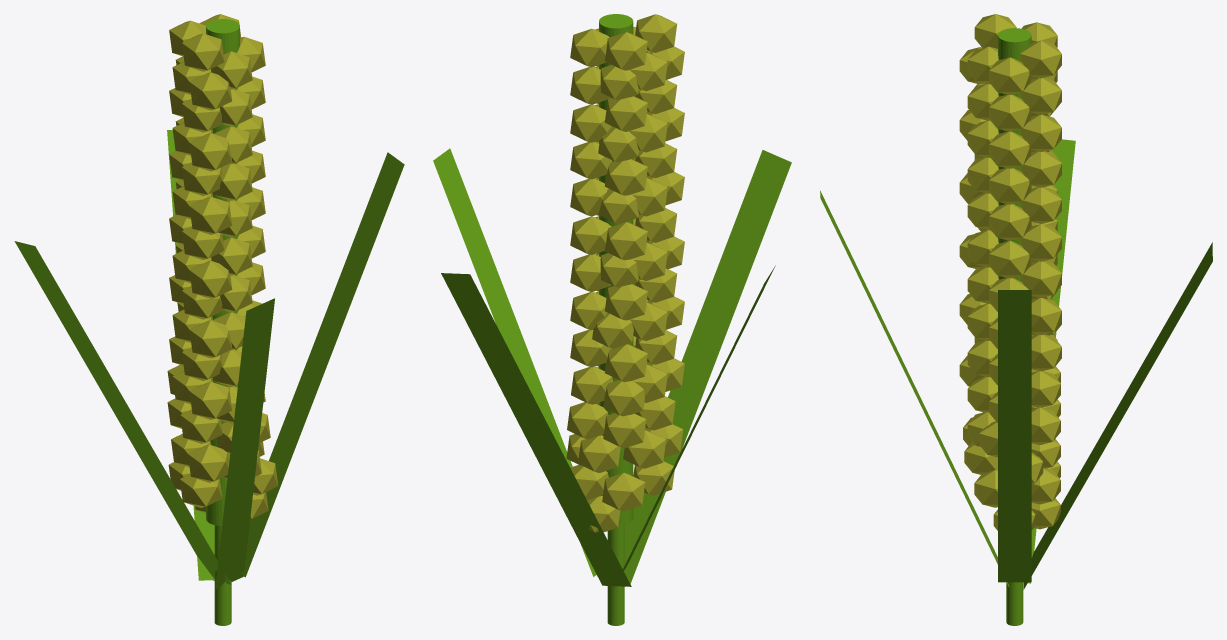
Rendered from Wheat.obj.
3 views of the same model, side by side, from view 1: azimuth 30°, elevation 25°; view 2: azimuth 150°, elevation 25°; view 3: azimuth 270°, elevation 25° (orthographic). The views are drawn at different scales.
Parts seen in each view (by area): view 1: Plane_Plane.004, Plane.002_Plane.006, Plane.001_Plane.005, Cylinder.001, Icosphere.039_Icosphere.040, Icosphere.019_Icosphere.020, Icosphere.032_Icosphere.033, Icosphere.035_Icosphere.036, Icosphere.024_Icosphere.025, Icosphere.007_Icosphere.008, Icosphere.027_Icosphere.028, Icosphere.040_Icosphere.041 (+29 smaller); view 2: Plane.002_Plane.006, Plane.003_Plane.007, Plane_Plane.004, Cylinder.001, Icosphere.003_Icosphere.004, Icosphere.041_Icosphere.042, Icosphere.026_Icosphere.027, Icosphere.018_Icosphere.019, Icosphere.025_Icosphere.026, Icosphere.033_Icosphere.034, Cylinder, Icosphere.045_Icosphere.046 (+44 smaller); view 3: Plane_Plane.004, Plane.003_Plane.007, Plane.001_Plane.005, Plane.002_Plane.006, Cylinder.001, Icosphere.073_Icosphere.074, Icosphere.061_Icosphere.062, Icosphere.077_Icosphere.078, Icosphere.074_Icosphere.075, Icosphere.065_Icosphere.066, Icosphere.068_Icosphere.069, Icosphere.078_Icosphere.079 (+27 smaller).
Part boxes in pixels (box(x1,y1,x2,y2)): Plane_Plane.004: box(241, 152, 404, 577); Plane.002_Plane.006: box(215, 298, 274, 589); Plane.001_Plane.005: box(14, 241, 231, 584); Cylinder.001: box(206, 19, 239, 525); Icosphere.039_Icosphere.040: box(182, 33, 224, 71); Icosphere.019_Icosphere.020: box(189, 381, 232, 419); Icosphere.032_Icosphere.033: box(189, 196, 232, 234); Icosphere.035_Icosphere.036: box(189, 133, 232, 171); Icosphere.024_Icosphere.025: box(189, 320, 232, 358); Icosphere.007_Icosphere.008: box(188, 444, 229, 482); Icosphere.027_Icosphere.028: box(189, 260, 232, 298); Icosphere.040_Icosphere.041: box(189, 72, 232, 110); Plane.002_Plane.006: box(624, 150, 791, 583); Plane.003_Plane.007: box(441, 273, 631, 586); Plane_Plane.004: box(433, 148, 596, 576); Cylinder.001: box(599, 14, 633, 525); Icosphere.003_Icosphere.004: box(602, 472, 645, 511); Icosphere.041_Icosphere.042: box(605, 32, 647, 70); Icosphere.026_Icosphere.027: box(605, 222, 647, 260); Icosphere.018_Icosphere.019: box(605, 344, 647, 381); Icosphere.025_Icosphere.026: box(605, 284, 647, 320); Icosphere.033_Icosphere.034: box(605, 159, 647, 195); Cylinder: box(607, 524, 624, 625); Icosphere.045_Icosphere.046: box(603, 380, 644, 416); Plane_Plane.004: box(998, 290, 1031, 582); Plane.003_Plane.007: box(1023, 242, 1212, 589); Plane.001_Plane.005: box(1028, 139, 1075, 583); Plane.002_Plane.006: box(820, 190, 1009, 587); Cylinder.001: box(998, 28, 1031, 281); Icosphere.073_Icosphere.074: box(989, 131, 1030, 168); Icosphere.061_Icosphere.062: box(989, 241, 1030, 278); Icosphere.077_Icosphere.078: box(989, 57, 1030, 94); Icosphere.074_Icosphere.075: box(989, 94, 1030, 131); Icosphere.065_Icosphere.066: box(989, 204, 1030, 240); Icosphere.068_Icosphere.069: box(989, 168, 1030, 204); Icosphere.078_Icosphere.079: box(1020, 40, 1061, 78).
Bounding box in the file's own units: 4.77 × 7.84 × 4.69.
